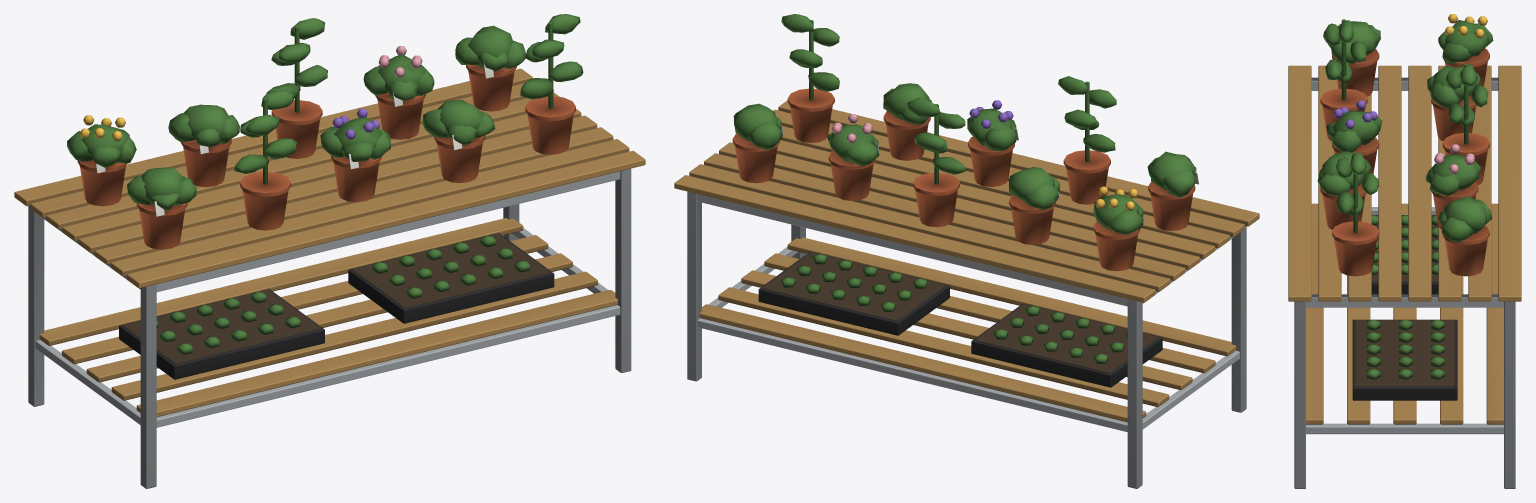
Rendered from plantTable.glb.
The picture shows the model from 3 angles, left to right: view 1: azimuth 30°, elevation 25°; view 2: azimuth 150°, elevation 25°; view 3: azimuth 270°, elevation 25°; orthographic projection. The views are drawn at different scales.
Visible parts, largest first — view 1: table; view 2: table; view 3: table.
Part boxes in pixels (<box>): table: <box>14,14,645,488</box>; table: <box>674,14,1259,488</box>; table: <box>1288,14,1521,488</box>.
Size of the model in its own units: 1.88 by 1.21 by 0.801.
